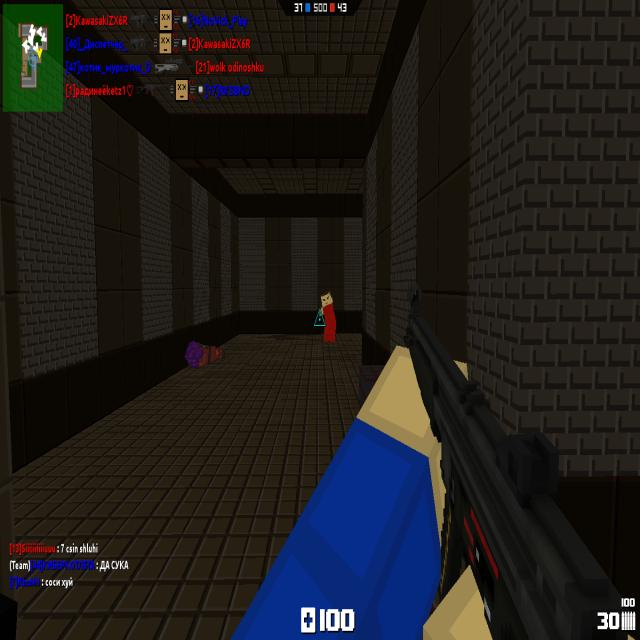enemy: (319, 288, 336, 346)
